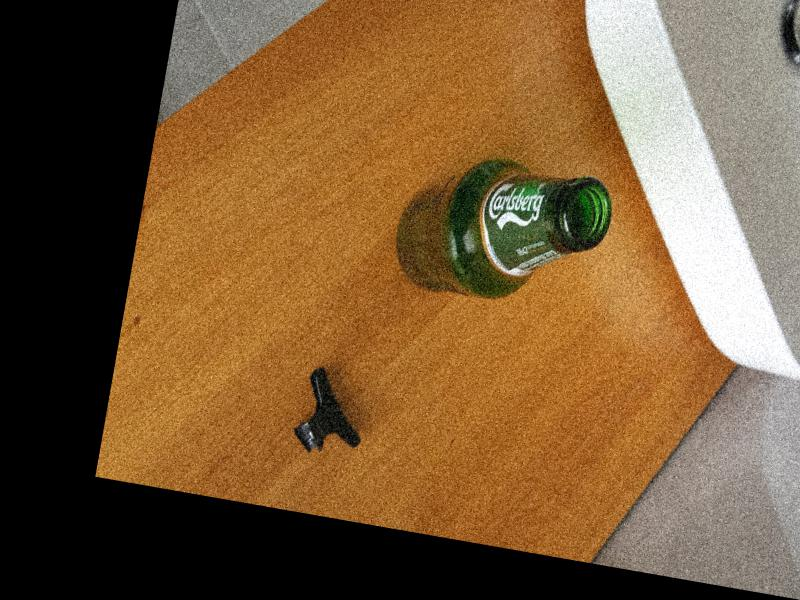Beer: (386, 144, 615, 317)
